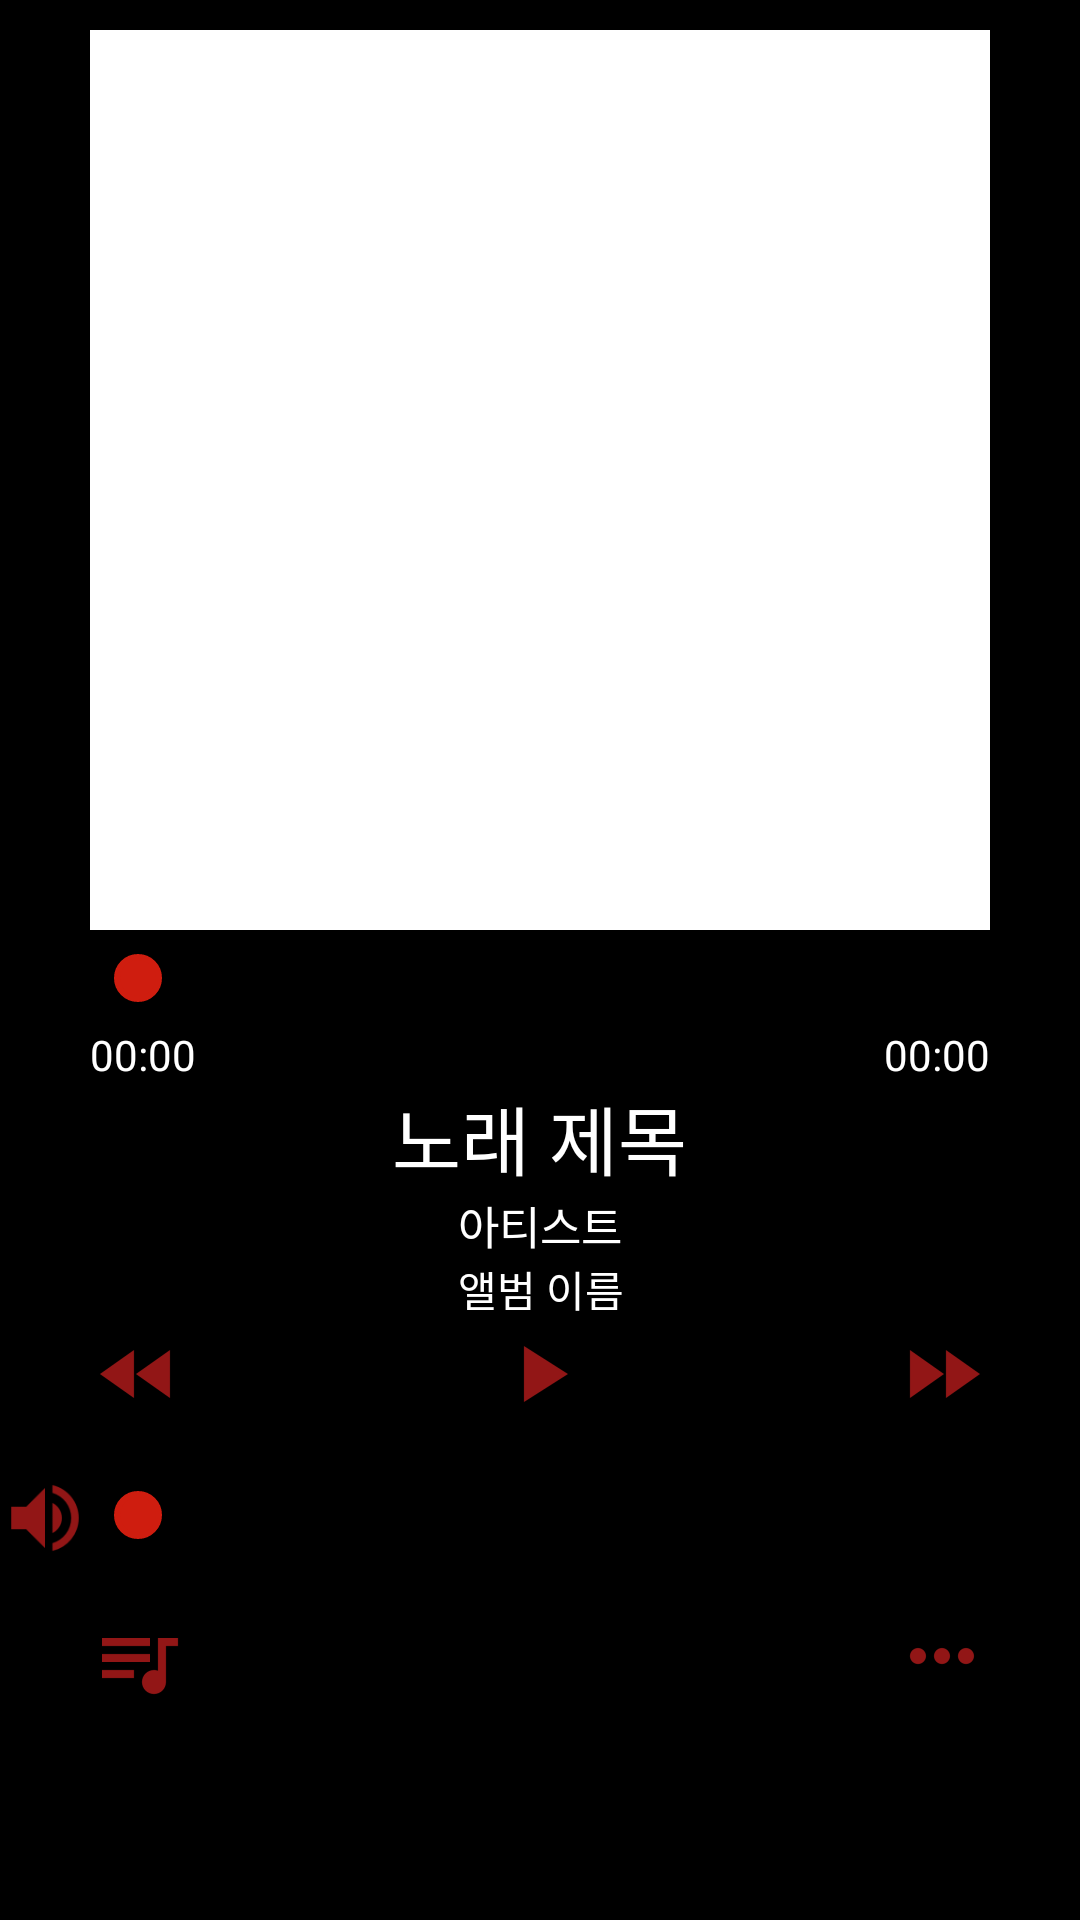

Icon bounding boxes for this 1080×1920 phone screenshot, format (x1, y1, x2, y2):
back: (100, 1350, 170, 1398)
more: (910, 1648, 974, 1664)
next: (910, 1350, 980, 1398)
play: (524, 1346, 568, 1402)
playlist: (102, 1638, 178, 1694)
volume up: (11, 1485, 79, 1551)
